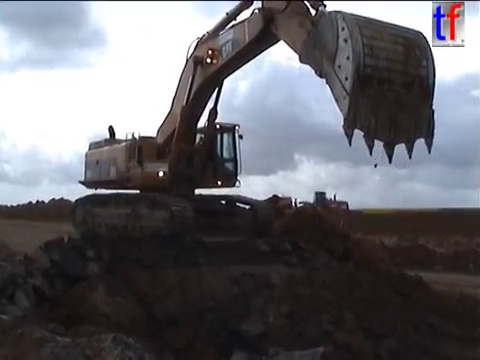excavator: (67, 1, 439, 244), (261, 189, 352, 231)
